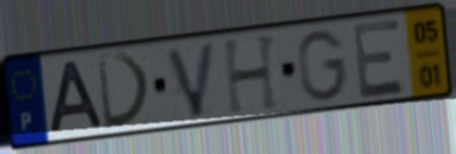A: (47, 57, 108, 137)
D: (94, 50, 155, 133)
E: (349, 15, 409, 102)
G: (295, 27, 351, 104)
H: (219, 31, 283, 118)
V: (163, 39, 220, 122)
